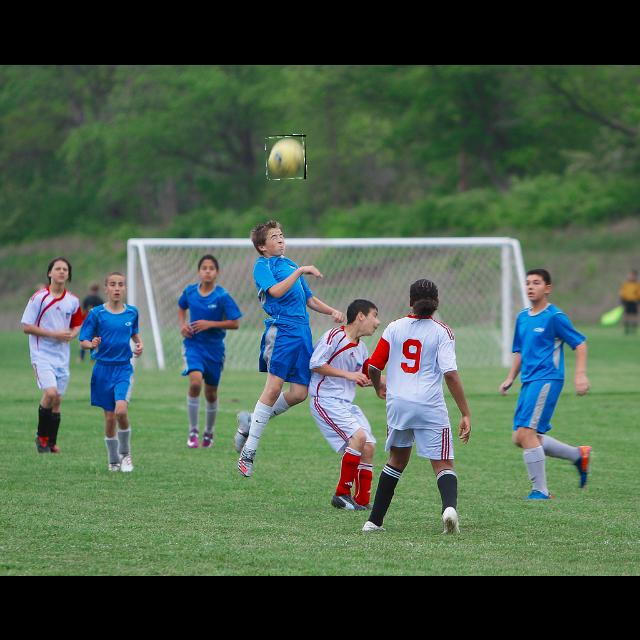Football: (266, 135, 306, 179)
